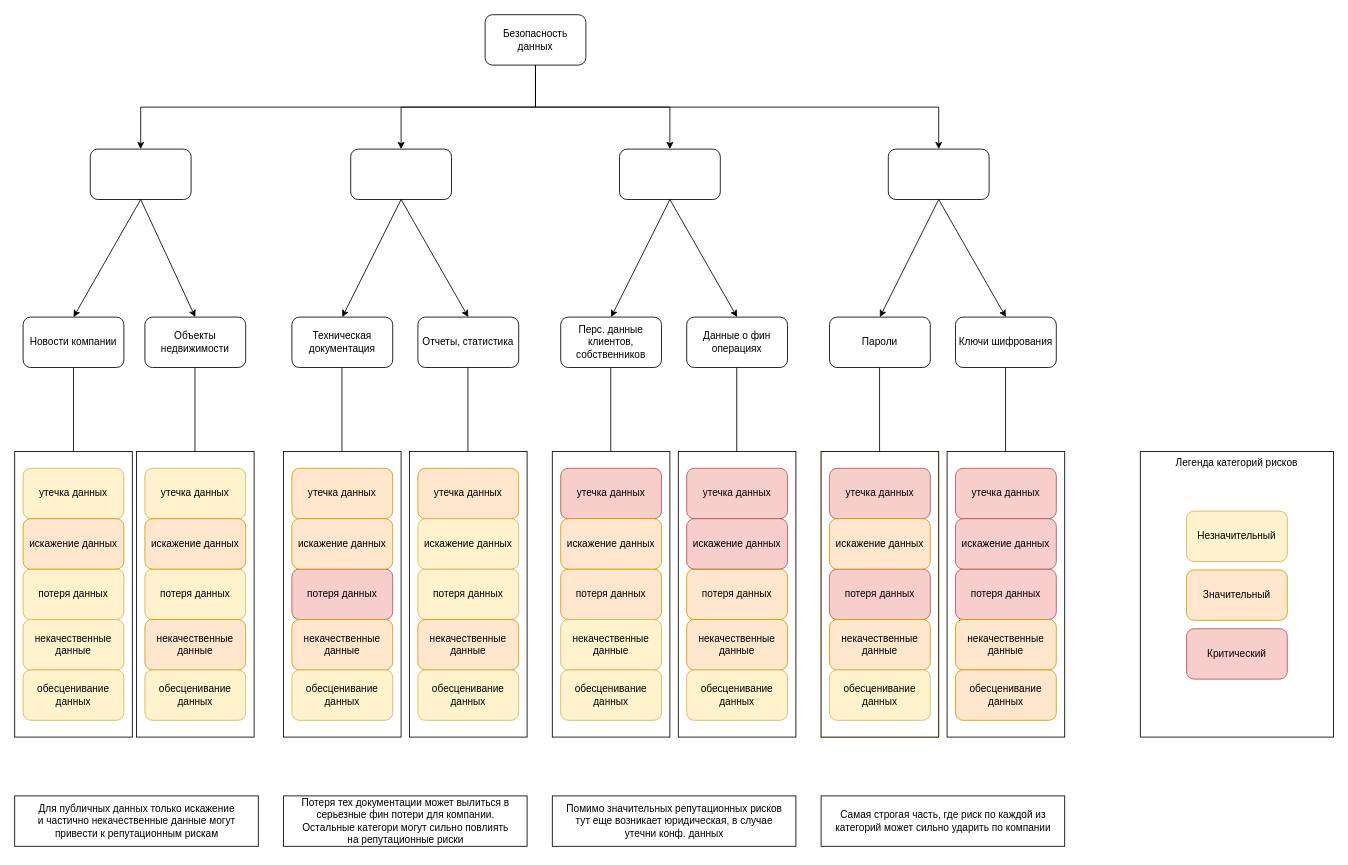
The diagram is 1348 pixels wide and 865 high, and some of its shapes have lost their labels. Here are the shapes that lost their labels. From the top down, the centre of each, then its label:
At (140,174): "публичные данные".
At (401,174): "внутренние данные".
At (669,174): "конфиденциальные данные".
At (938,174): "секретные данные".
